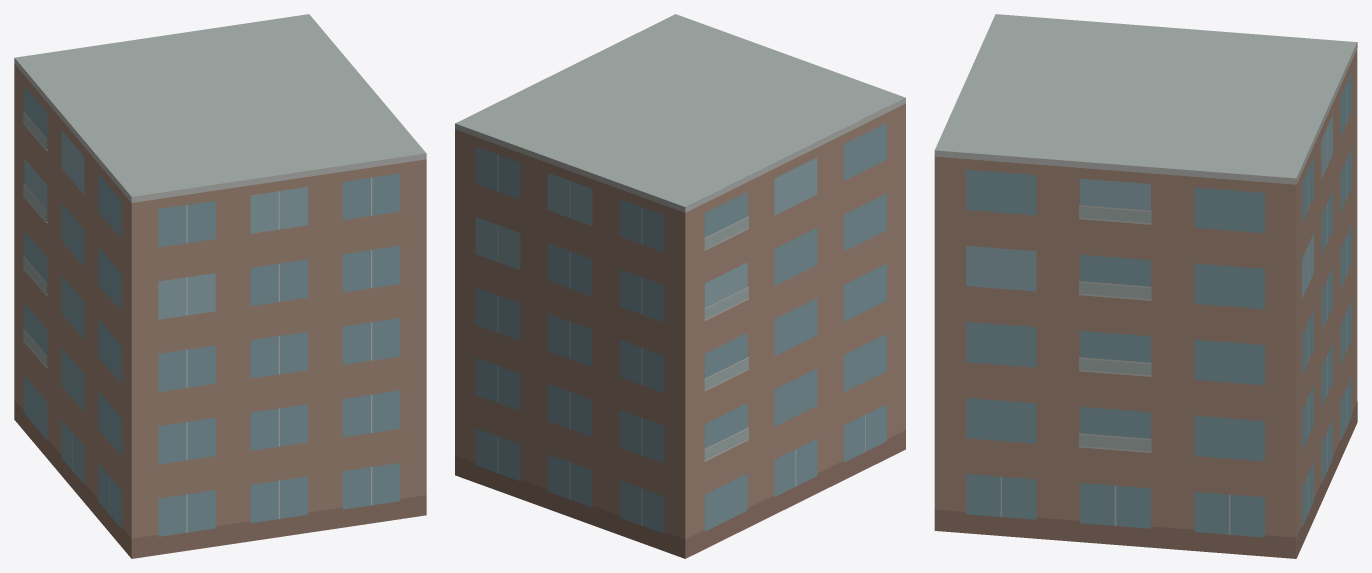
File: survey-upis-32529067.glb
3 renders of one model, left to right at view 1: azimuth 30°, elevation 25°; view 2: azimuth 150°, elevation 25°; view 3: azimuth 270°, elevation 25°, orthographic. The views are drawn at different scales.
Visible parts, largest first — view 1: survey-upis-32529067.tmp; view 2: survey-upis-32529067.tmp; view 3: survey-upis-32529067.tmp.
Part boxes in pixels (x1,y1,x2,y2): survey-upis-32529067.tmp: [14, 14, 426, 558]; survey-upis-32529067.tmp: [455, 14, 905, 558]; survey-upis-32529067.tmp: [934, 14, 1357, 558].
Bounding box in the file's own units: 13.73 × 14.8 × 14.92.
